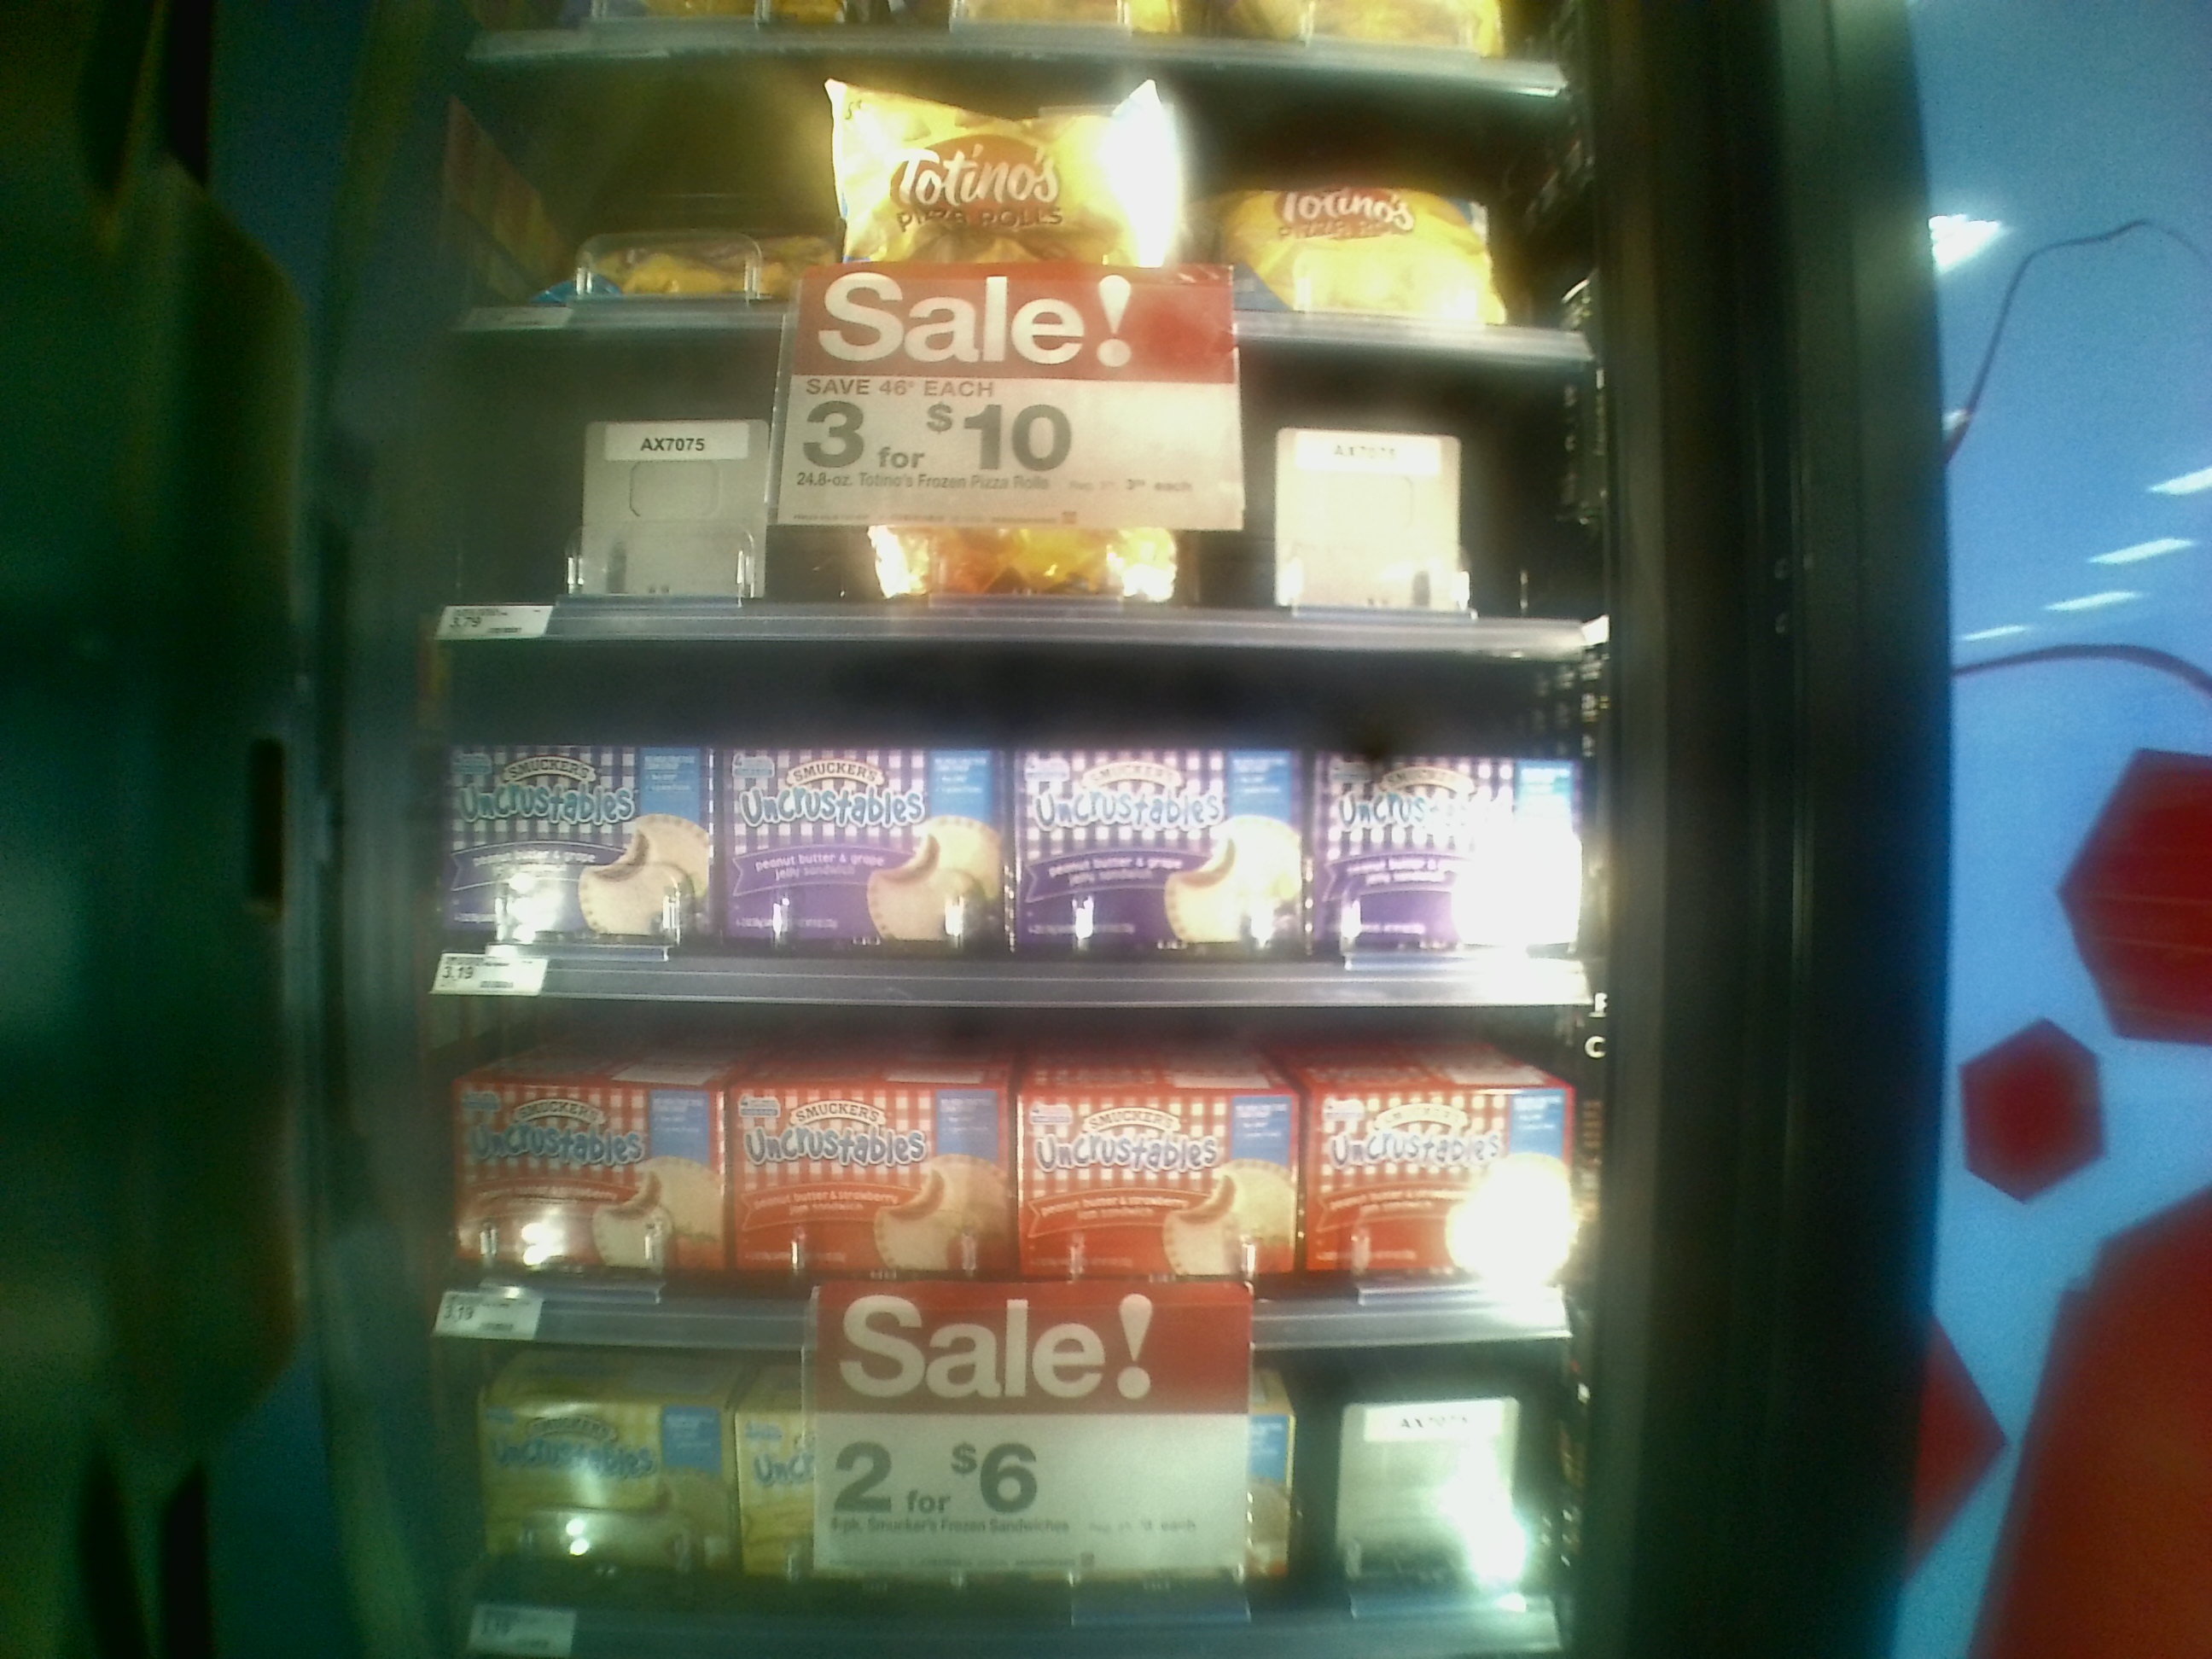shelf: (383, 638, 1599, 995), (376, 314, 1594, 664), (371, 1009, 1575, 1340)
